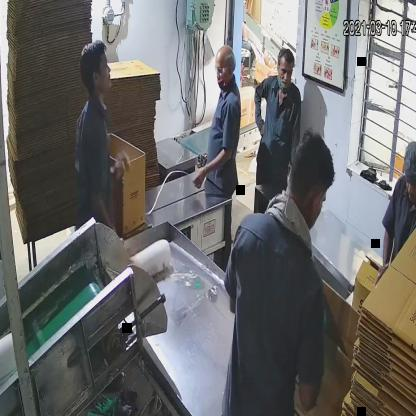no_glove: (370, 225, 402, 294), (187, 145, 228, 191), (249, 88, 271, 140)
